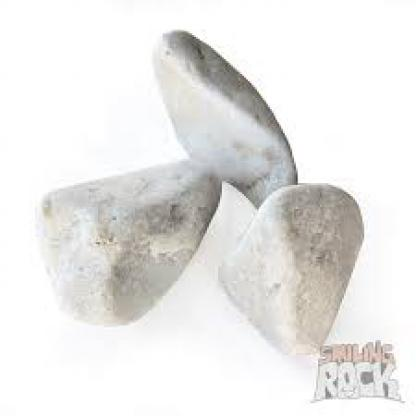Metamorphic_Marble: (124, 19, 310, 204), (13, 156, 214, 326), (218, 161, 368, 362)
